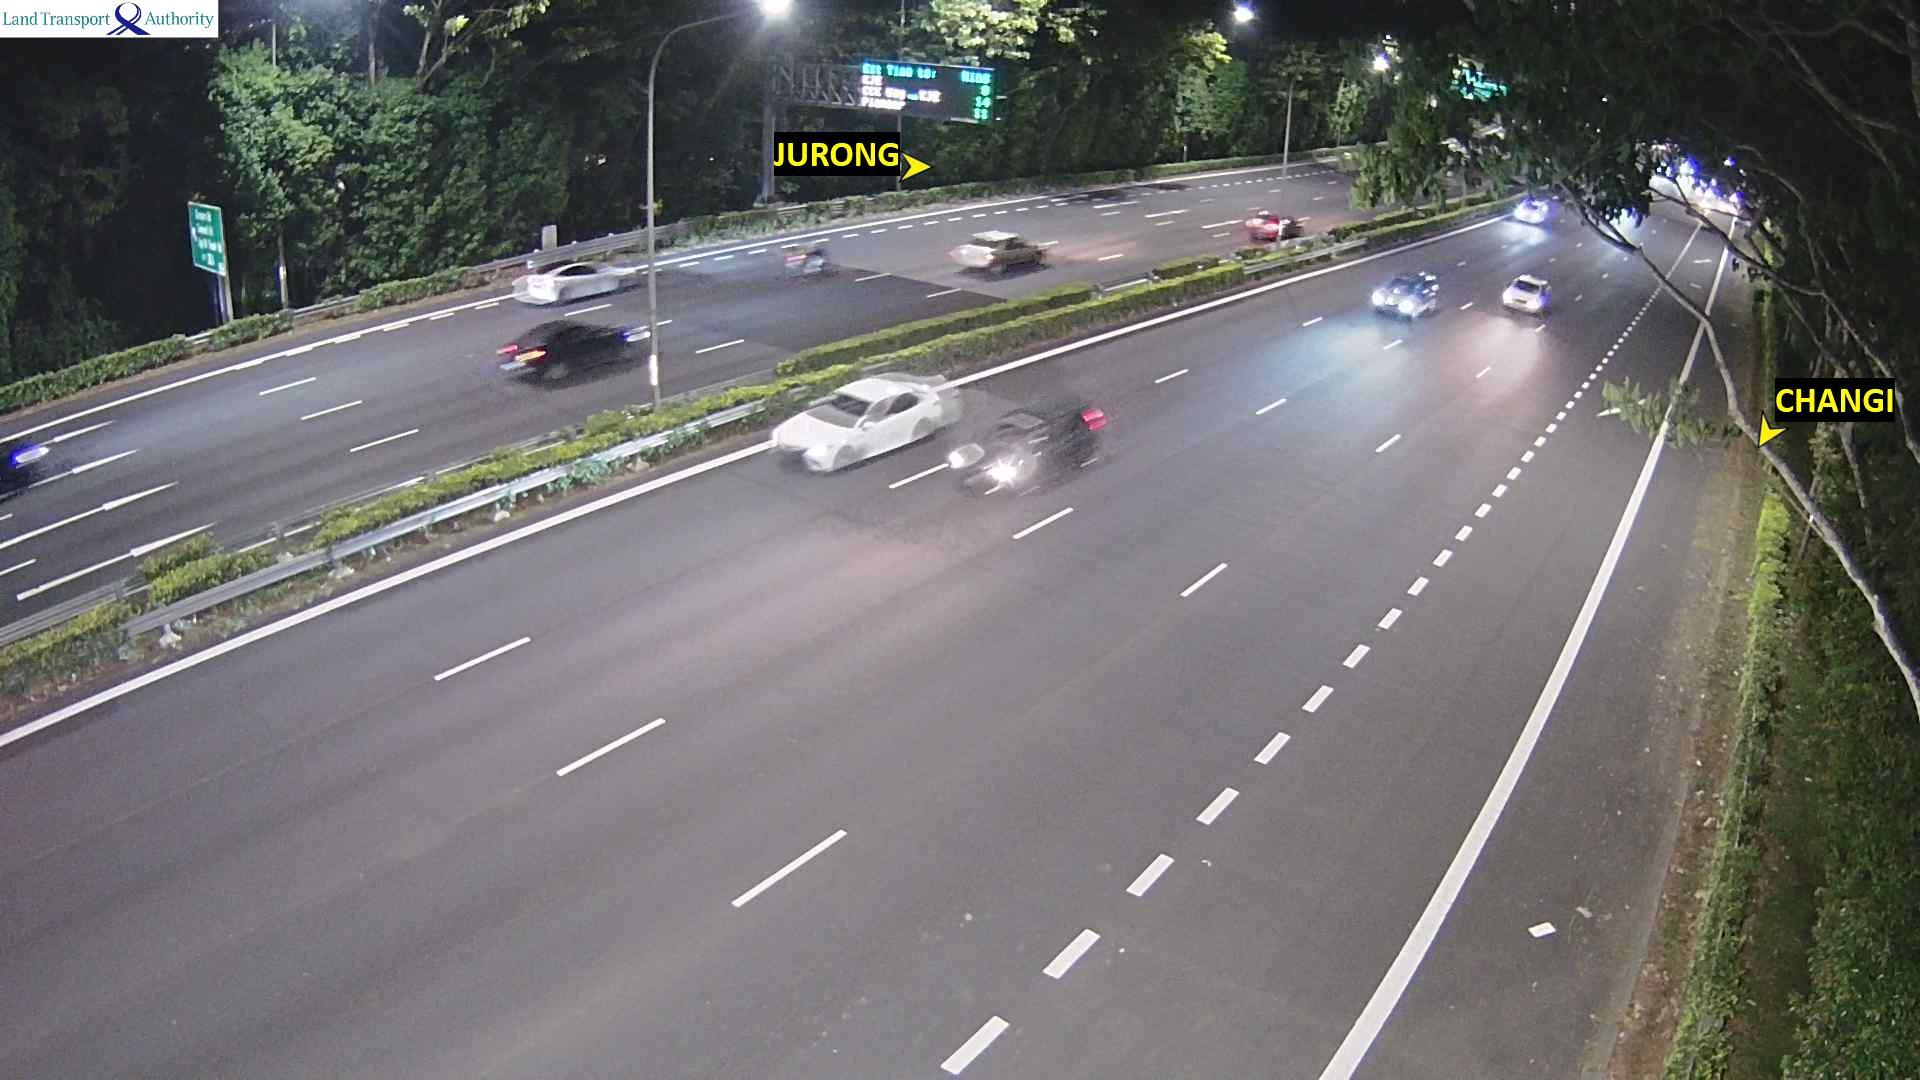incoming: (937, 415, 1059, 510), (767, 383, 885, 476), (1368, 273, 1433, 323), (1497, 276, 1550, 320), (1512, 199, 1546, 227)
